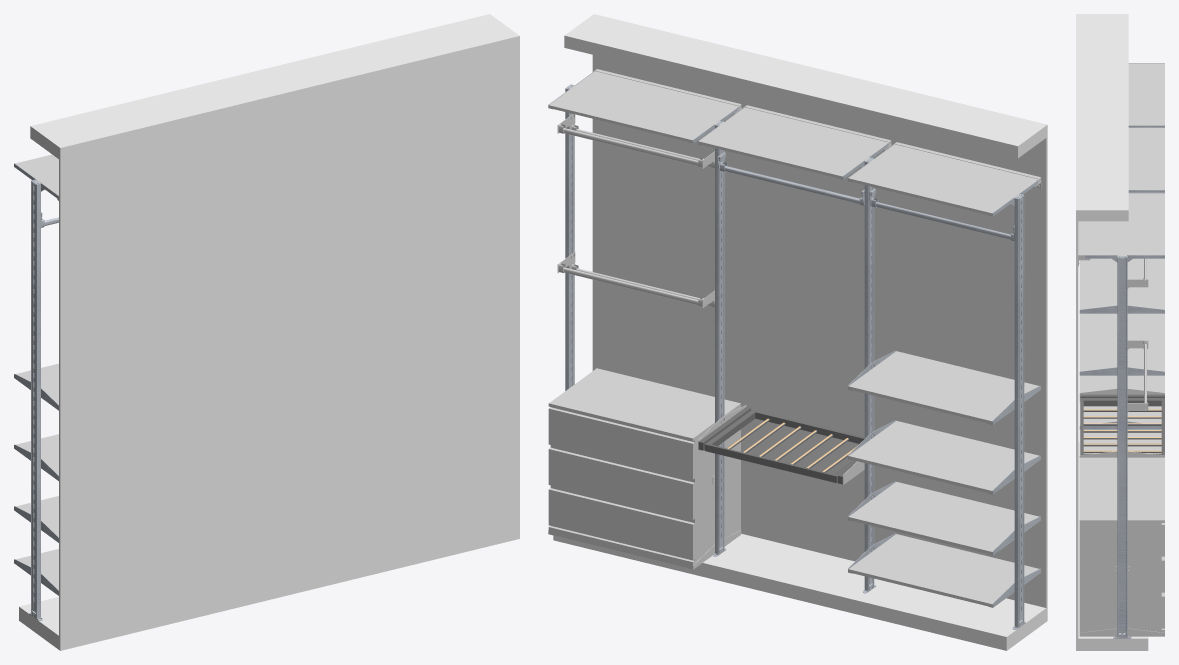
The picture shows the model from 3 angles, left to right: view 1: azimuth 30°, elevation 25°; view 2: azimuth 150°, elevation 25°; view 3: azimuth 270°, elevation 25°; orthographic projection. The views are drawn at different scales.
Parts seen in each view (by area): view 1: Geom3D_, Geom3D_组件#2, Geom3D_组件#16; view 2: Geom3D_, Geom3D_组件#4_柜子 copy 002, Geom3D_组件#15 (×4), Geom3D_组件#16 (×3), Geom3D_组件#2 (×4), Geom3D (×2), Geom3D_组件#11_双衣杆 copy 002 (×2), Geom3D_组件#10_单挂衣杆 copy 001 (×2); view 3: Geom3D_组件#4_柜子 copy 002, Geom3D_, Geom3D_组件#15 (×4), Geom3D_组件#16 (×3), Geom3D (×6), Geom3D_组件#2, Geom3D_组件#11_双衣杆 copy 002 (×2), Geom3D_组件#5_裤架 copy 001.
Part boxes in pixels (x1=…): Geom3D_: x1=19, y1=14, x2=519, y2=650; Geom3D_组件#2: x1=29, y1=179, x2=42, y2=620; Geom3D_组件#16: x1=15, y1=154, x2=58, y2=200; Geom3D_: x1=553, y1=14, x2=1047, y2=650; Geom3D_组件#4_柜子 copy 002: x1=548, y1=368, x2=741, y2=569; Geom3D_组件#15 (×4): x1=848, y1=351, x2=1038, y2=607; Geom3D_组件#16 (×3): x1=548, y1=69, x2=1041, y2=215; Geom3D_组件#2 (×4): x1=565, y1=84, x2=1025, y2=629; Geom3D (×2): x1=698, y1=407, x2=864, y2=484; Geom3D_组件#11_双衣杆 copy 002 (×2): x1=557, y1=114, x2=714, y2=308; Geom3D_组件#10_单挂衣杆 copy 001 (×2): x1=717, y1=151, x2=1014, y2=241; Geom3D_组件#4_柜子 copy 002: x1=1079, y1=457, x2=1164, y2=636; Geom3D_: x1=1076, y1=14, x2=1148, y2=650; Geom3D_组件#15 (×4): x1=1079, y1=258, x2=1164, y2=455; Geom3D_组件#16 (×3): x1=1078, y1=63, x2=1164, y2=266; Geom3D (×6): x1=1079, y1=192, x2=1164, y2=455; Geom3D_组件#2: x1=1113, y1=256, x2=1131, y2=638; Geom3D_组件#11_双衣杆 copy 002 (×2): x1=1127, y1=258, x2=1148, y2=412; Geom3D_组件#5_裤架 copy 001: x1=1079, y1=388, x2=1164, y2=457.
Size of the model in its own units: 2.73 by 2.85 by 0.5216.
Materials: 4 (1 with a texture image).
